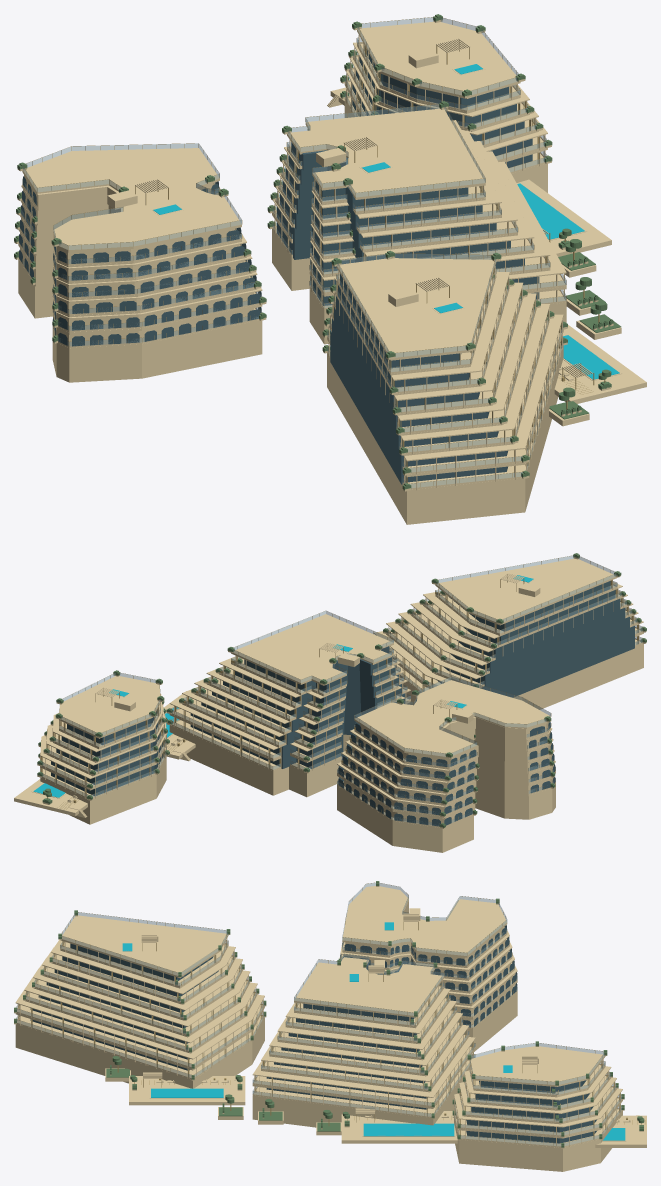
The model's file is verdala-terraces.glb.
3 renders of one model, top to bottom at view 1: azimuth 30°, elevation 25°; view 2: azimuth 150°, elevation 25°; view 3: azimuth 270°, elevation 25°, orthographic. The views are drawn at different scales.
Parts seen in each view (by area): view 1: Hotel und Suedterrassen, Skulpturaler Westfluegel, Panorama-Residenzen Mitte, Noerdlicher Panorama-Fluegel, Hotel Infinity-Pool, Panoramagaerten, Residents Infinity-Pool; view 2: Skulpturaler Westfluegel, Hotel und Suedterrassen, Panorama-Residenzen Mitte, Noerdlicher Panorama-Fluegel, Nord Panorama-Pool, Residents Infinity-Pool; view 3: Hotel und Suedterrassen, Panorama-Residenzen Mitte, Noerdlicher Panorama-Fluegel, Skulpturaler Westfluegel, Hotel Infinity-Pool, Residents Infinity-Pool, Panoramagaerten, Nord Panorama-Pool.
Part boxes in pixels (x1,y1,x2,y2): Hotel und Suedterrassen: (322, 250, 567, 524); Skulpturaler Westfluegel: (14, 143, 266, 382); Panorama-Residenzen Mitte: (267, 101, 566, 344); Noerdlicher Panorama-Fluegel: (340, 14, 552, 192); Hotel Infinity-Pool: (554, 325, 646, 403); Panoramagaerten: (549, 239, 621, 426); Residents Infinity-Pool: (516, 179, 611, 256); Skulpturaler Westfluegel: (337, 676, 555, 852); Hotel und Suedterrassen: (374, 553, 646, 709); Panorama-Residenzen Mitte: (166, 610, 410, 797); Noerdlicher Panorama-Fluegel: (37, 670, 169, 824); Nord Panorama-Pool: (14, 779, 87, 817); Residents Infinity-Pool: (164, 691, 195, 761); Hotel und Suedterrassen: (14, 910, 266, 1088); Panorama-Residenzen Mitte: (252, 953, 475, 1127); Noerdlicher Panorama-Fluegel: (452, 1041, 624, 1171); Skulpturaler Westfluegel: (338, 881, 517, 1051); Hotel Infinity-Pool: (129, 1072, 245, 1105); Residents Infinity-Pool: (341, 1107, 457, 1143); Panoramagaerten: (105, 1056, 341, 1135); Nord Panorama-Pool: (595, 1115, 646, 1147).
Size of the model in its own units: 130 by 33.43 by 174.
